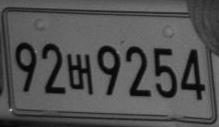2: (124, 45, 151, 97), (41, 42, 66, 94)
4: (180, 47, 206, 101)
5: (153, 46, 177, 99)
9: (96, 44, 121, 96), (14, 41, 37, 92)
버: (67, 53, 93, 94)
